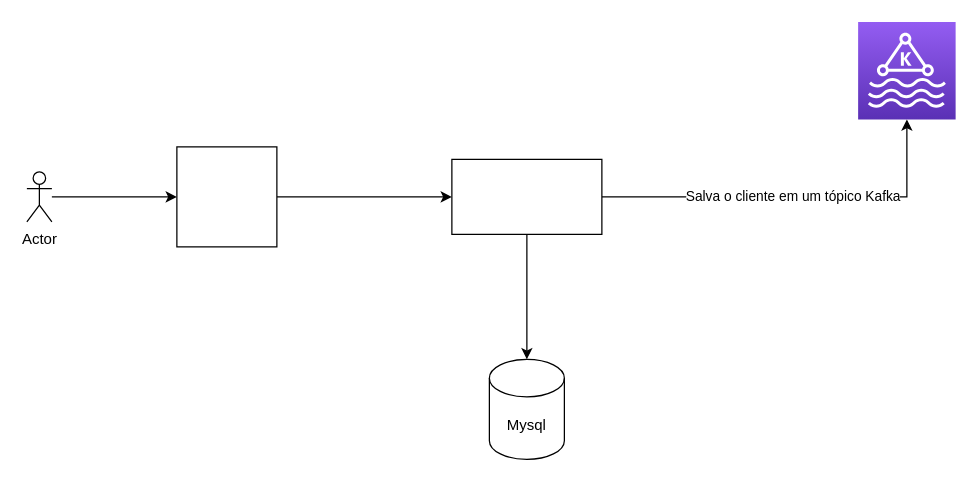
The diagram is 978 pixels wide and 481 high, and some of its shapes have lost their labels. Each missing label, with the centre of its shape:
"Cadastro/ regras de negocio" goes at [526,196].
"Objeto User" goes at [226,196].
